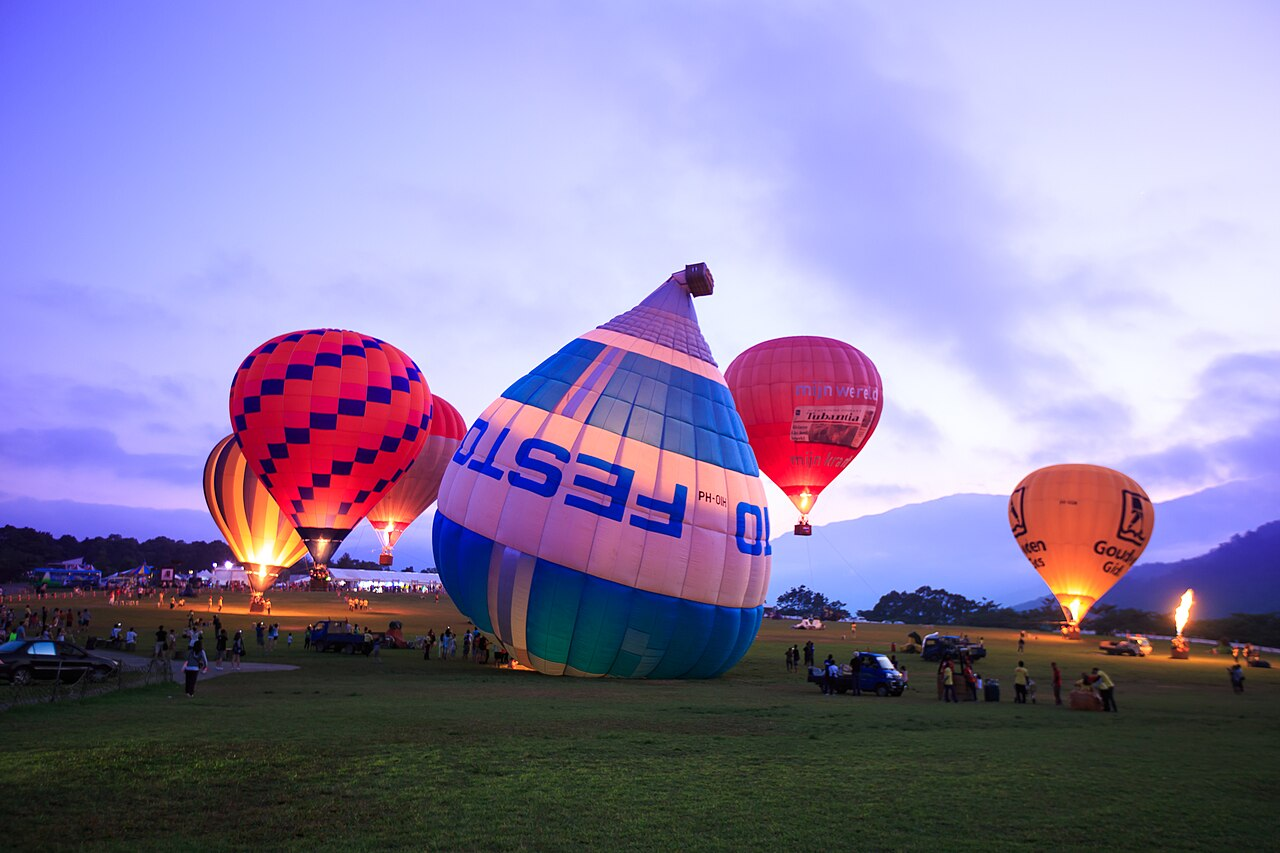balloon: (430, 262, 791, 705), (228, 326, 433, 576), (722, 333, 884, 535), (1006, 460, 1183, 637), (202, 432, 311, 610), (364, 395, 468, 572)
